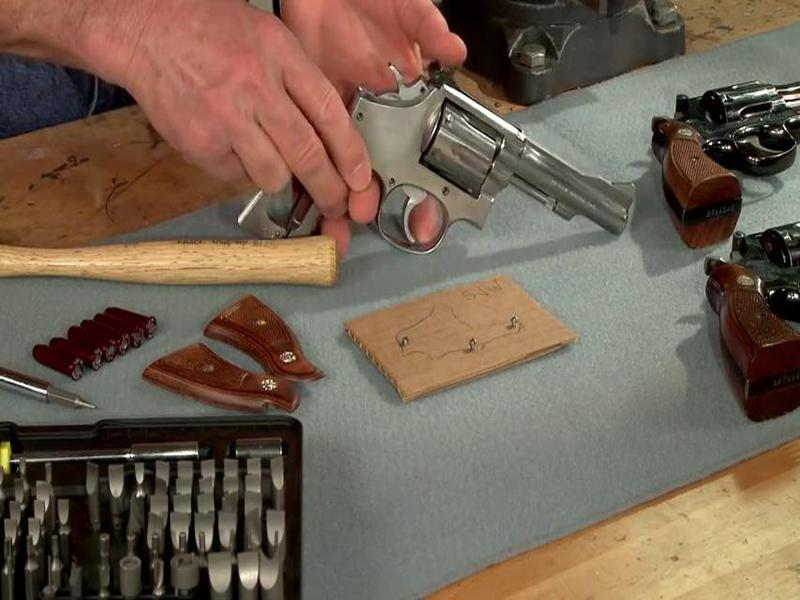Revolver: (254, 34, 647, 316)
